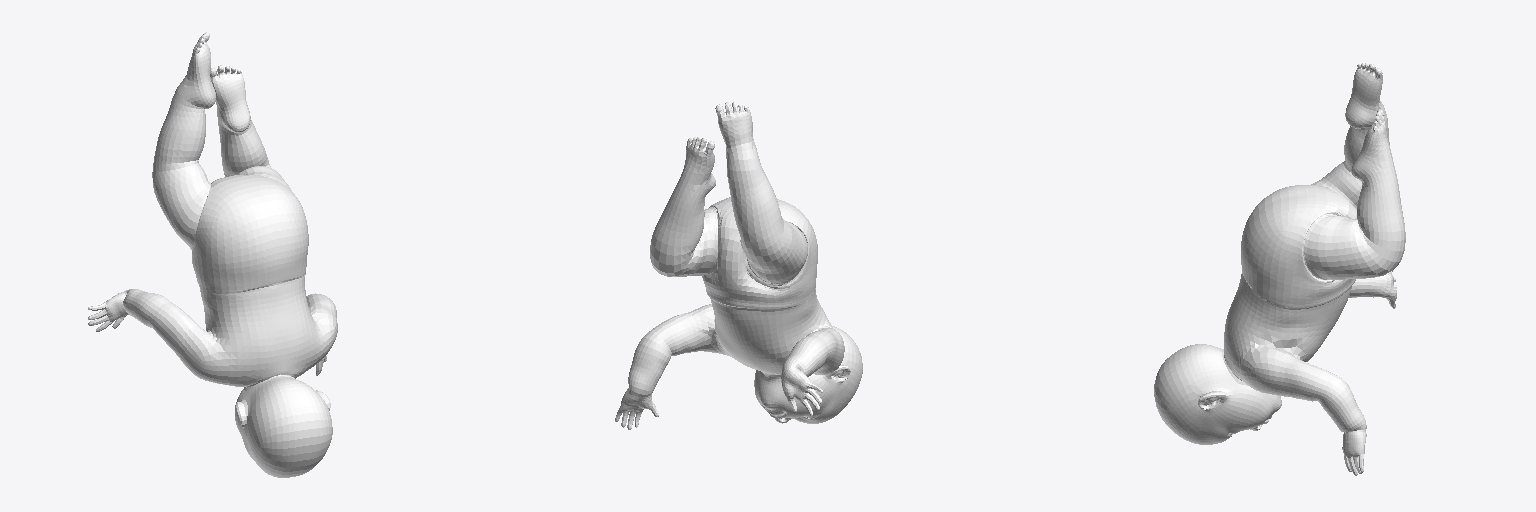
File: baby.obj
3 renders of one model, left to right at view 1: azimuth 30°, elevation 25°; view 2: azimuth 150°, elevation 25°; view 3: azimuth 270°, elevation 25°, orthographic.
Parts seen in each view (by area): view 1: CrawlingBaby; view 2: CrawlingBaby; view 3: CrawlingBaby.
Boxes of the visible parts, <box> form: CrawlingBaby: <box>88,32,337,477</box>; CrawlingBaby: <box>615,102,862,429</box>; CrawlingBaby: <box>1154,63,1405,475</box>.
Bounding box in the file's own units: 12.3 × 19.91 × 12.03.